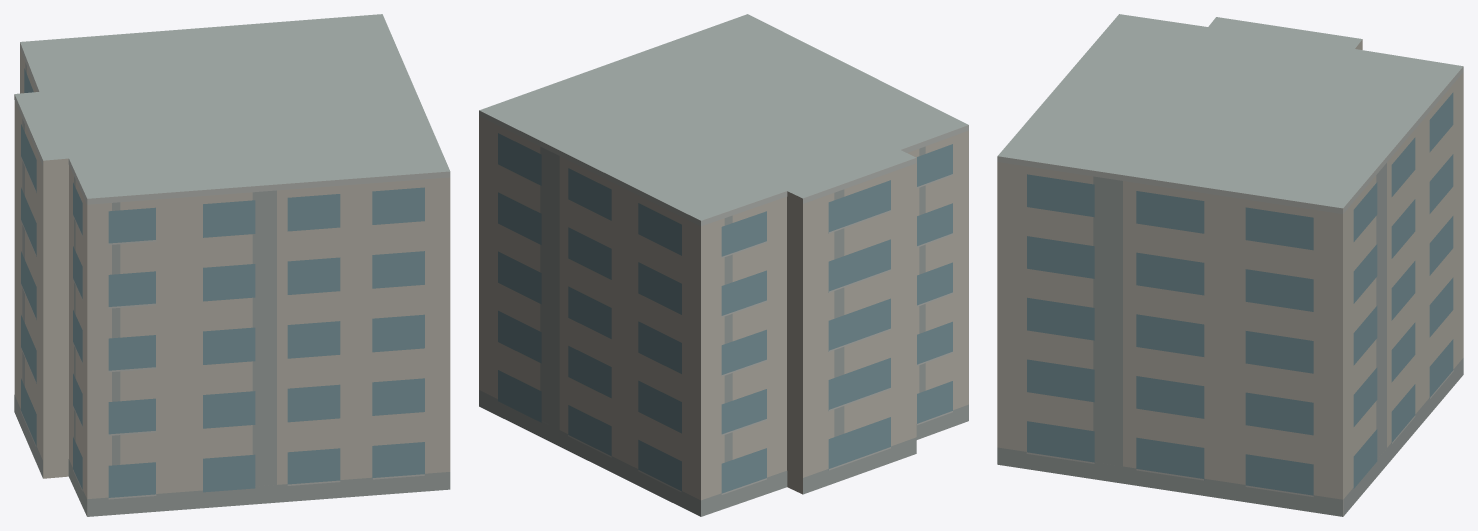
Rendered from survey-upis-33016641.glb.
3 renders of one model, left to right at view 1: azimuth 30°, elevation 25°; view 2: azimuth 150°, elevation 25°; view 3: azimuth 270°, elevation 25°, orthographic. The views are drawn at different scales.
Visible parts, largest first — view 1: survey-upis-33016641.tmp; view 2: survey-upis-33016641.tmp; view 3: survey-upis-33016641.tmp.
Boxes of the visible parts, box(x1,y1,x2,y2) form: survey-upis-33016641.tmp: box(14, 14, 450, 516); survey-upis-33016641.tmp: box(479, 14, 968, 516); survey-upis-33016641.tmp: box(997, 14, 1463, 516).
Bounding box in the file's own units: 17.58 × 13 × 17.81.
